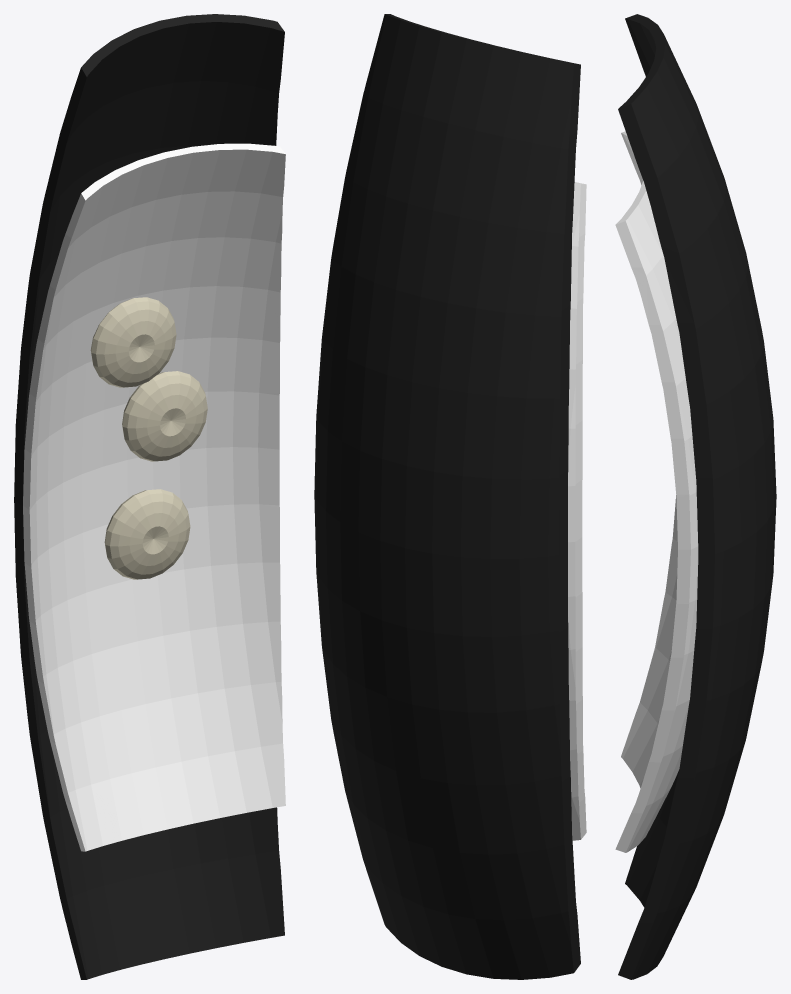
3 views of the same model, side by side, from view 1: azimuth 30°, elevation 25°; view 2: azimuth 150°, elevation 25°; view 3: azimuth 270°, elevation 25° (orthographic). The views are drawn at different scales.
Parts seen in each view (by area): view 1: decoration; view 2: decoration; view 3: decoration.
Boxes of the visible parts, x1,y1,x2,y2 form: decoration: (14,14,285,979); decoration: (314,14,586,979); decoration: (615,14,776,979).
Size of the model in its own units: 4.15 by 14.91 by 2.42.
